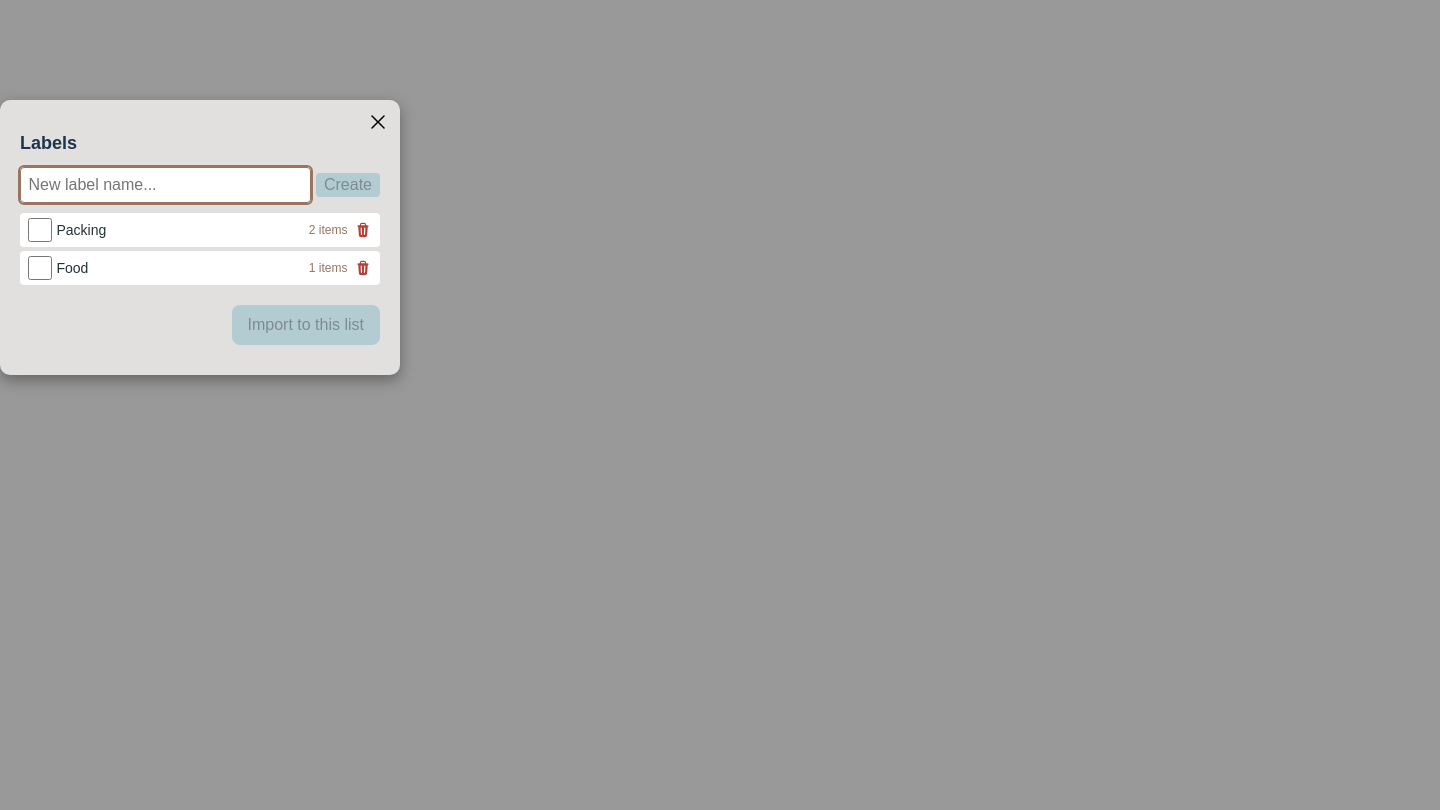
refreshes the todo list even when an import partially fails
Step 1. Click the checkbox named "Select Packing for import" → [40, 230], box [28,218,52,242]
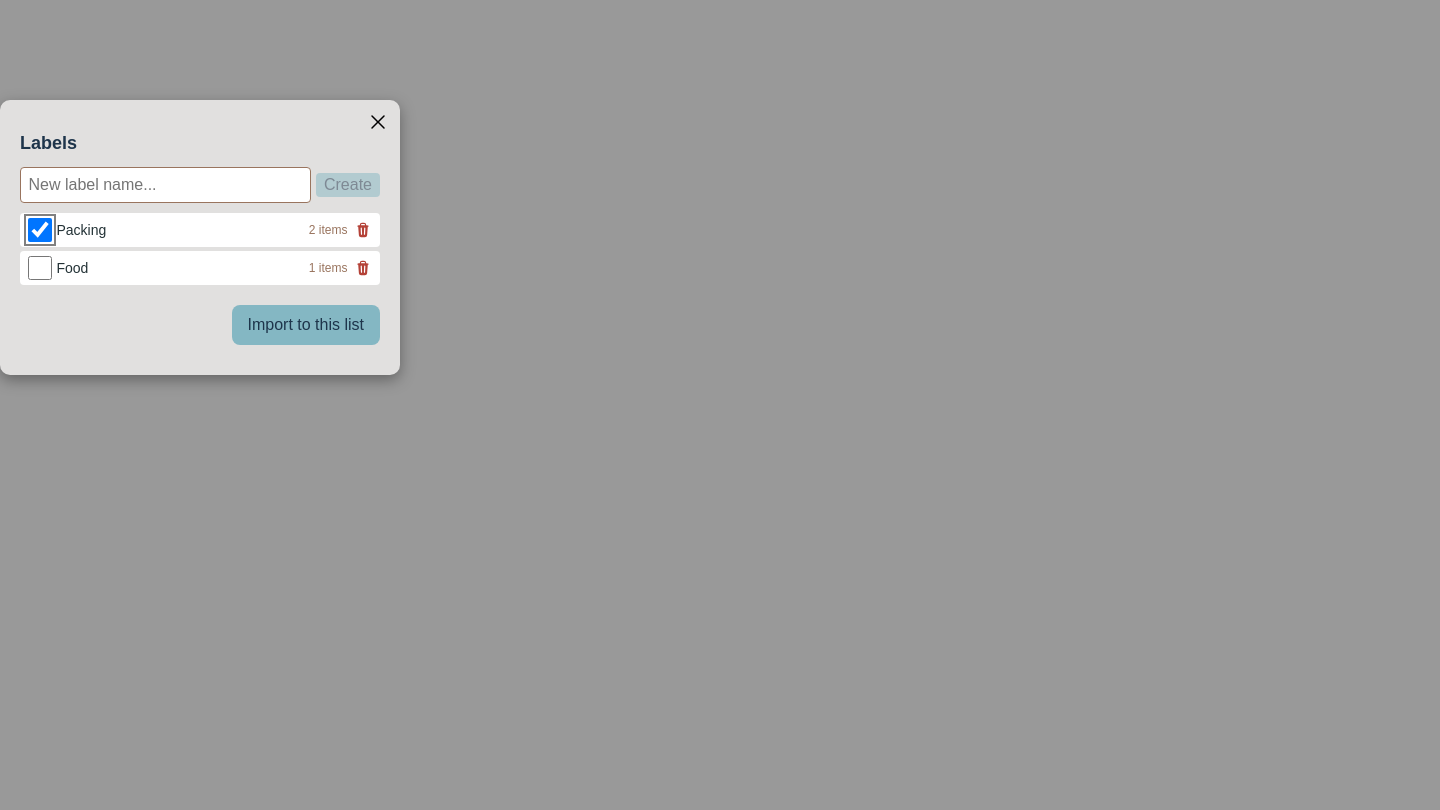
Step 2. Click the checkbox named "Select Food for import" → [40, 268], box [28,256,52,280]
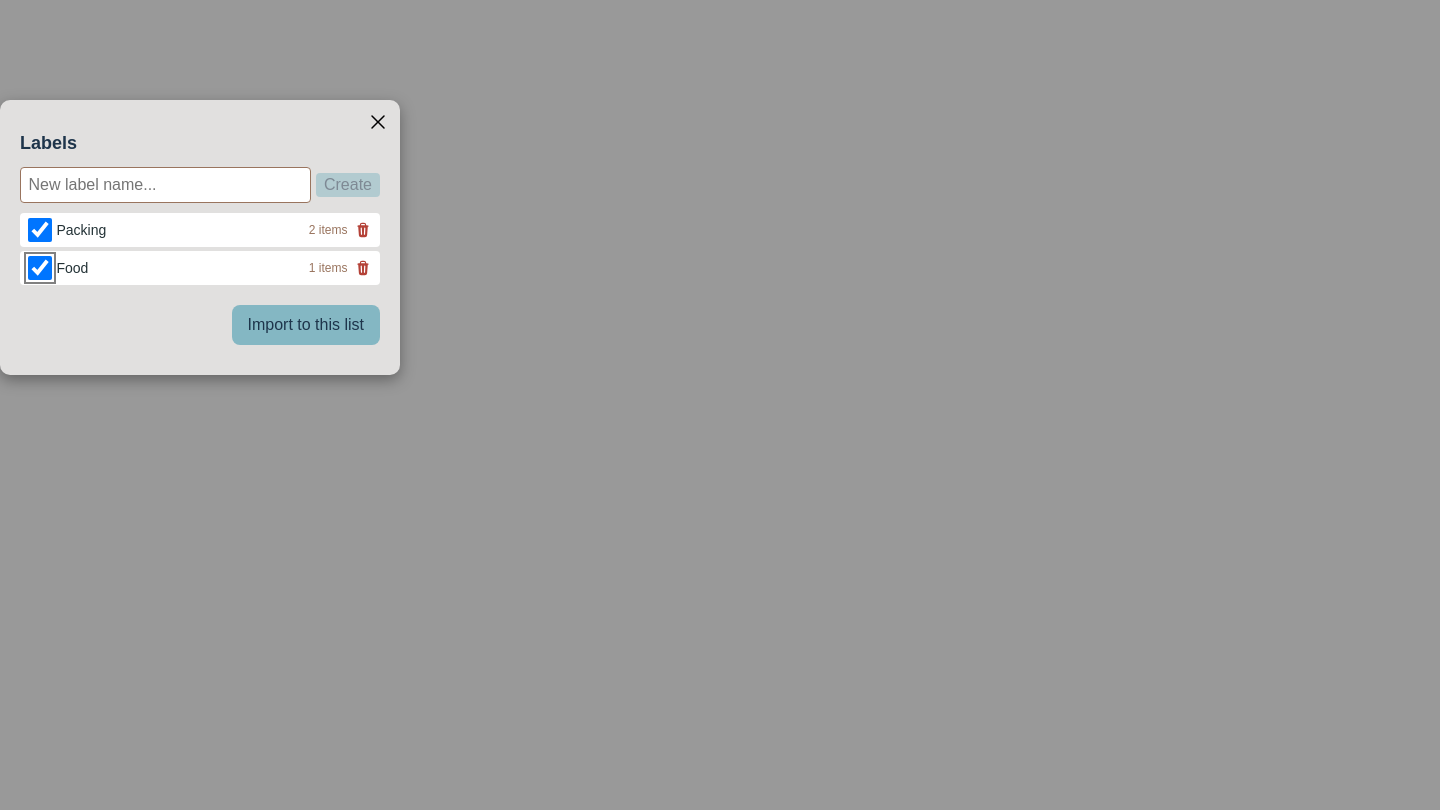
Step 3. Click the button "Import to this list" → [306, 325], box [232,305,380,345]
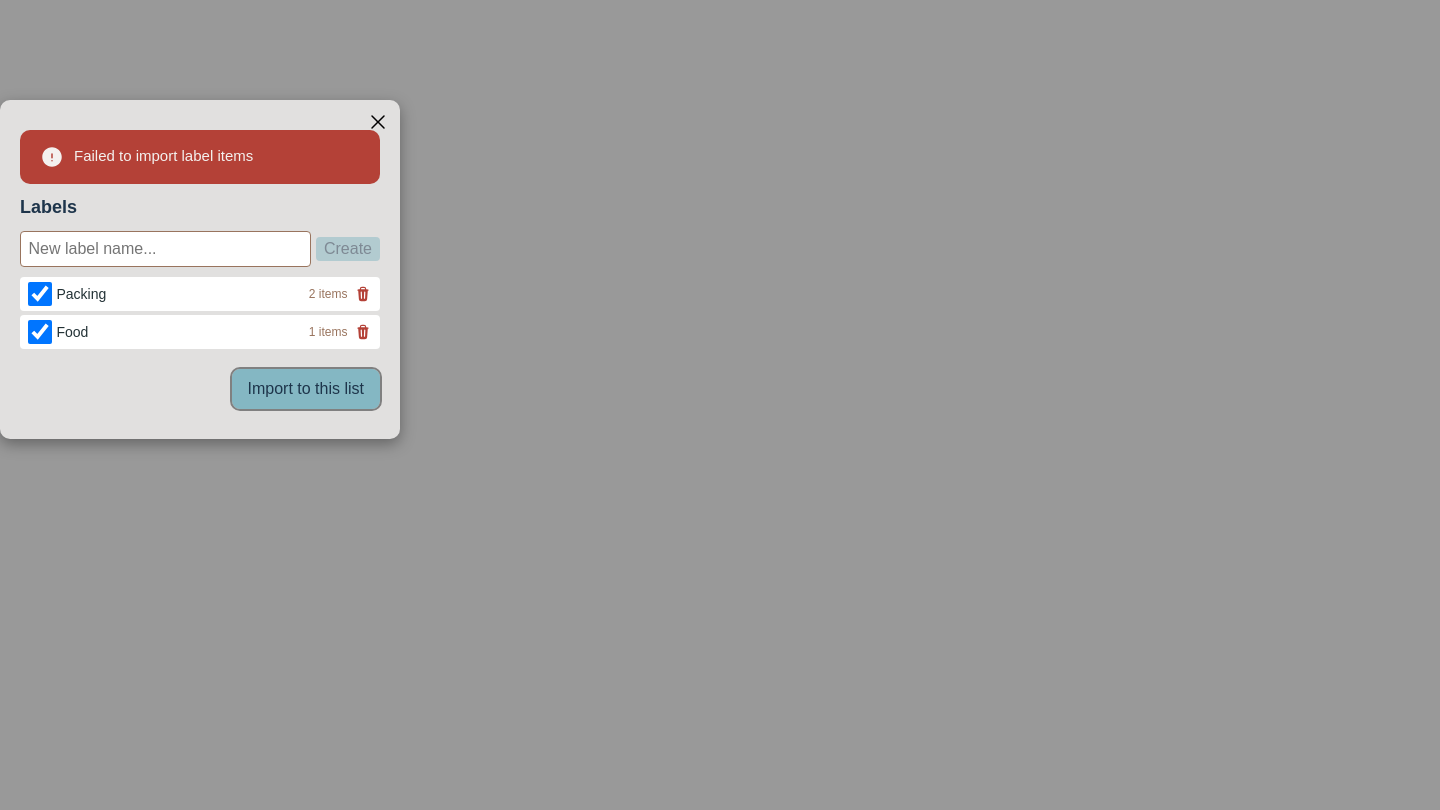
Check: the text "Failed to import label items" is shown, box [20,130,380,184]
